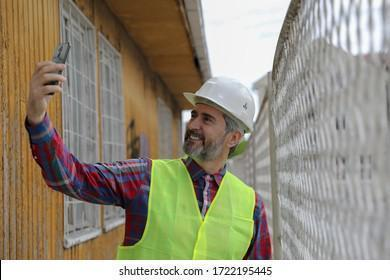helmet: (183, 77, 255, 132)
